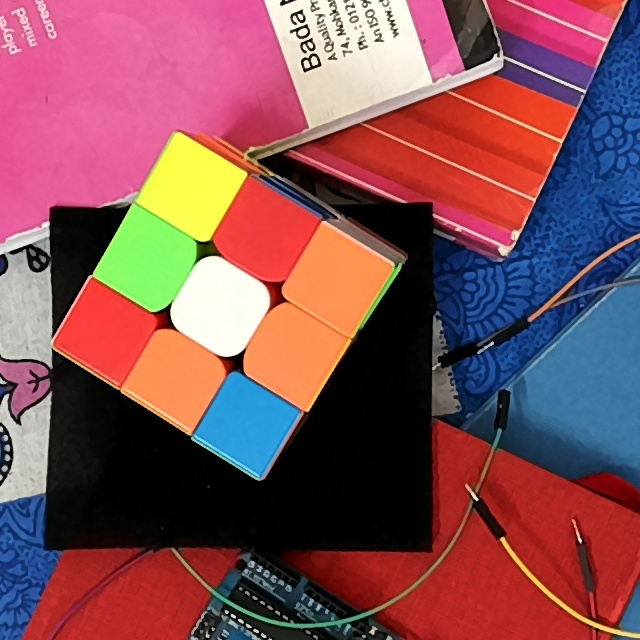tile: (265, 324, 322, 383), (191, 278, 249, 335), (160, 162, 217, 219), (120, 235, 175, 291), (234, 207, 290, 261), (307, 251, 363, 305), (77, 305, 133, 358), (219, 398, 275, 449), (151, 352, 205, 402)
